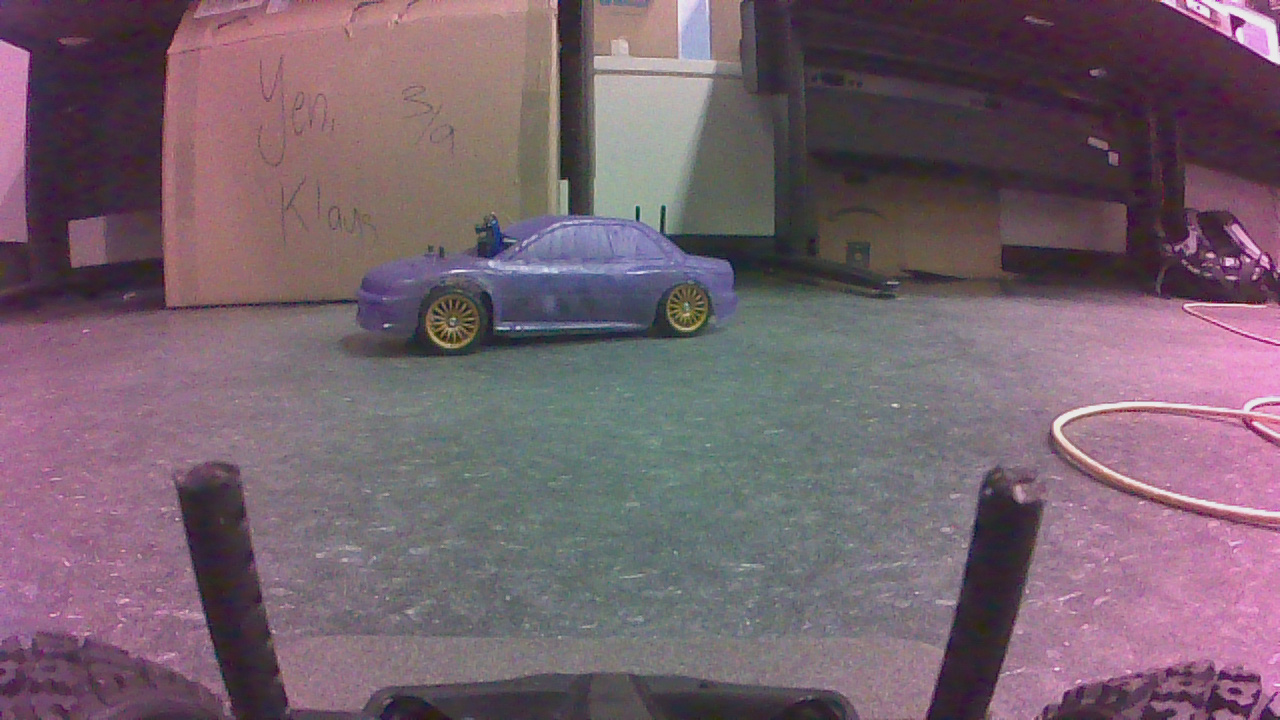opponent: (358, 214, 746, 354)
